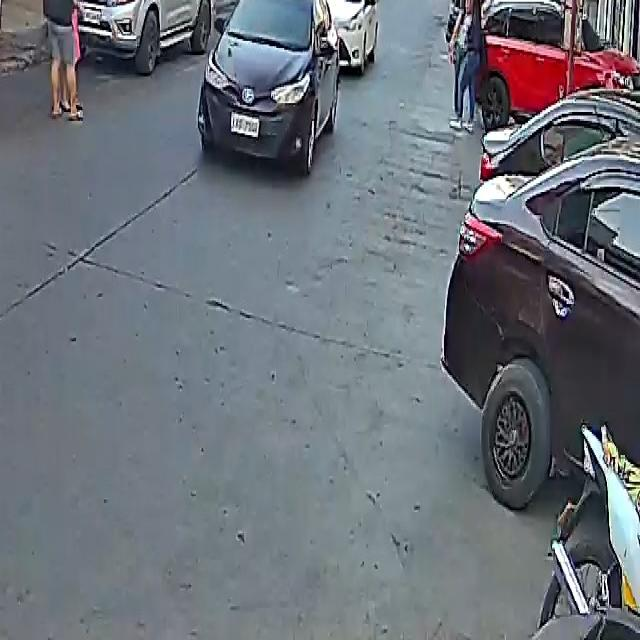car: (445, 79, 640, 529), (196, 0, 345, 171), (465, 0, 639, 128), (75, 0, 225, 75), (307, 0, 381, 69)
